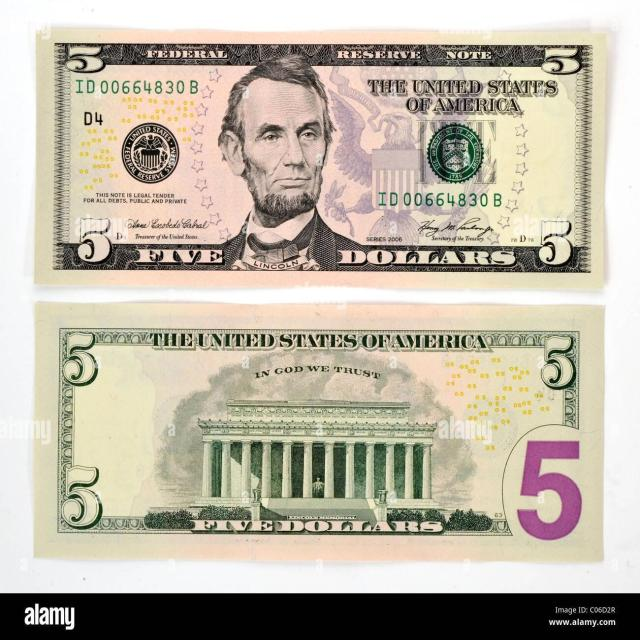5-Back: (34, 304, 604, 562)
5-Front: (37, 30, 603, 291)
